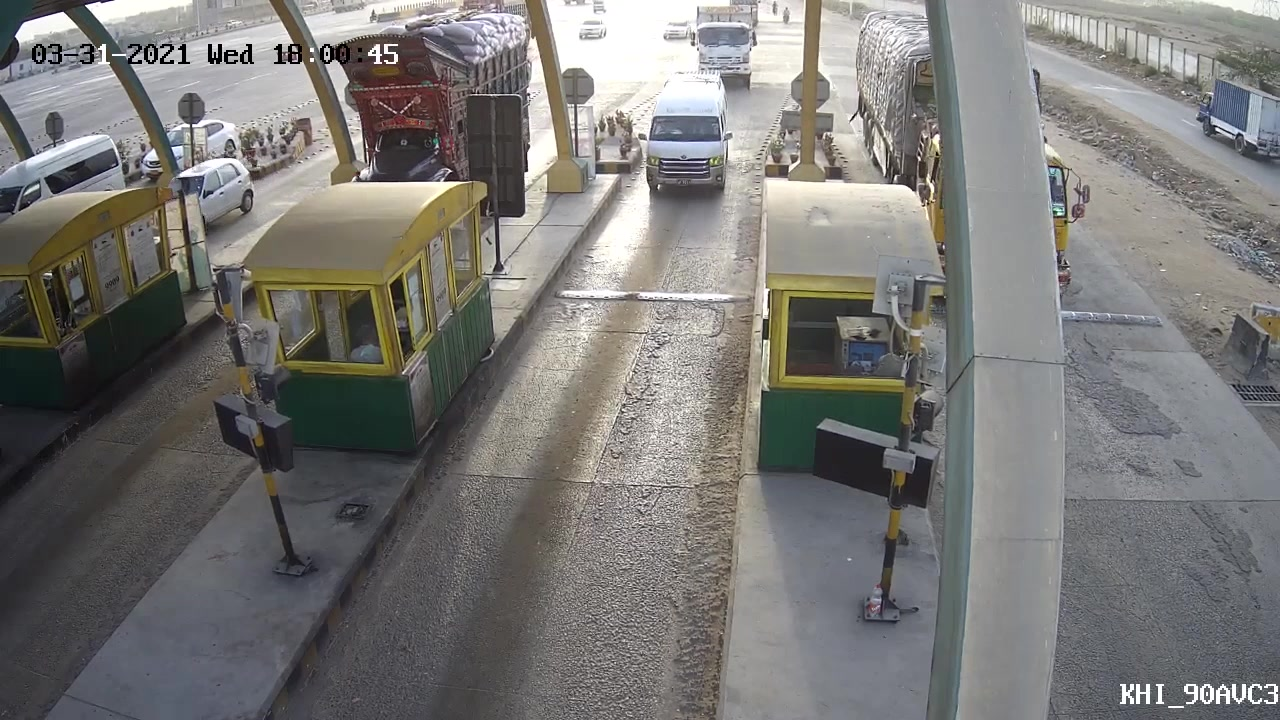F2: (628, 70, 741, 206)
